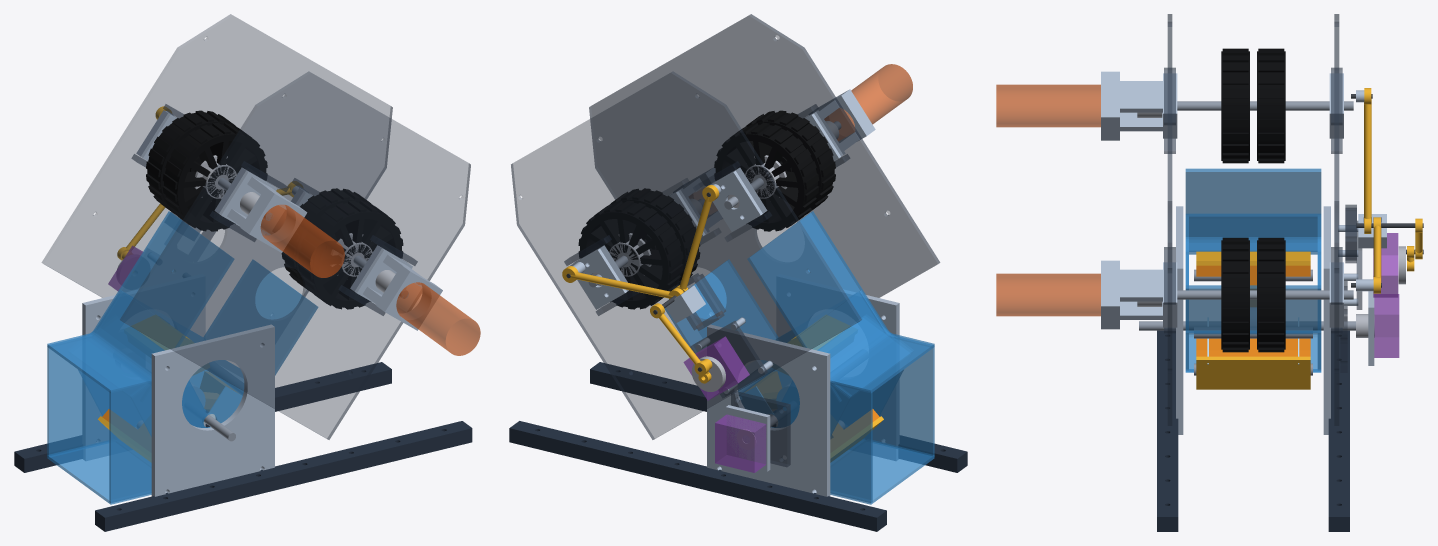
Rendered from paddle_launcher_feasible_nectar.glb.
3 renders of one model, left to right at view 1: azimuth 30°, elevation 25°; view 2: azimuth 150°, elevation 25°; view 3: azimuth 270°, elevation 25°, orthographic. The views are drawn at different scales.
Visible parts, largest first — view 1: shooter_side_plate_-1, shooter_side_plate_+1, paddle_support_cheek_-1, base_rail_-72, shooter_throat_+55, gecko_flywheel_upper_1, gecko_flywheel_lower_1, guide_wall_1_+1, shooter_throat_-55, guide_wall_1_-1, paddle_support_cheek_+1, base_rail_+72 (+23 smaller); view 2: shooter_side_plate_+1, shooter_side_plate_-1, paddle_support_cheek_+1, base_rail_+72, shooter_throat_+55, gecko_flywheel_upper_2, gecko_flywheel_lower_2, guide_wall_1_-1, guide_wall_1_+1, paddle_support_cheek_-1, base_rail_-72, guide_floor_1 (+29 smaller); view 3: shooter_throat_+55, motor_upper_5203-2402-0003, motor_lower_5203-2402-0003, guide_roof_3, base_rail_-72, base_rail_+72, paddle_flex_tip_1, guide_roof_1, gecko_flywheel_upper_1, gecko_flywheel_upper_2, gecko_flywheel_lower_1, gecko_flywheel_lower_2 (+35 smaller).
Boxes of the visible parts, bbox=[...] form: shooter_side_plate_-1: bbox=[120, 71, 470, 439]; shooter_side_plate_+1: bbox=[42, 14, 392, 366]; paddle_support_cheek_-1: bbox=[151, 324, 274, 496]; base_rail_-72: bbox=[95, 421, 472, 531]; shooter_throat_+55: bbox=[119, 211, 234, 336]; gecko_flywheel_upper_1: bbox=[162, 122, 267, 231]; gecko_flywheel_lower_1: bbox=[298, 200, 403, 309]; guide_wall_1_+1: bbox=[47, 336, 113, 457]; shooter_throat_-55: bbox=[203, 259, 318, 375]; guide_wall_1_-1: bbox=[109, 381, 151, 502]; paddle_support_cheek_+1: bbox=[82, 274, 205, 460]; base_rail_+72: bbox=[14, 362, 391, 472]; shooter_side_plate_+1: bbox=[511, 71, 861, 439]; shooter_side_plate_-1: bbox=[589, 14, 939, 332]; paddle_support_cheek_+1: bbox=[707, 324, 830, 496]; base_rail_+72: bbox=[509, 421, 886, 531]; shooter_throat_+55: bbox=[747, 211, 862, 336]; gecko_flywheel_upper_2: bbox=[714, 122, 819, 231]; gecko_flywheel_lower_2: bbox=[578, 200, 683, 309]; guide_wall_1_-1: bbox=[868, 336, 934, 457]; guide_wall_1_+1: bbox=[830, 381, 872, 502]; paddle_support_cheek_-1: bbox=[776, 274, 899, 460]; base_rail_-72: bbox=[590, 362, 967, 472]; guide_floor_1: bbox=[830, 440, 934, 504]; shooter_throat_+55: bbox=[1185, 168, 1321, 216]; motor_upper_5203-2402-0003: bbox=[996, 84, 1100, 127]; motor_lower_5203-2402-0003: bbox=[996, 273, 1100, 316]; guide_roof_3: bbox=[1186, 214, 1320, 254]; base_rail_-72: bbox=[1157, 330, 1178, 531]; base_rail_+72: bbox=[1328, 330, 1349, 531]; paddle_flex_tip_1: bbox=[1196, 356, 1310, 389]; guide_roof_1: bbox=[1189, 217, 1317, 251]; gecko_flywheel_upper_1: bbox=[1221, 48, 1249, 163]; gecko_flywheel_upper_2: bbox=[1257, 48, 1285, 163]; gecko_flywheel_lower_1: bbox=[1221, 237, 1249, 352]; gecko_flywheel_lower_2: bbox=[1257, 237, 1285, 352].
Size of the model in its own units: 384 by 400 by 359.
